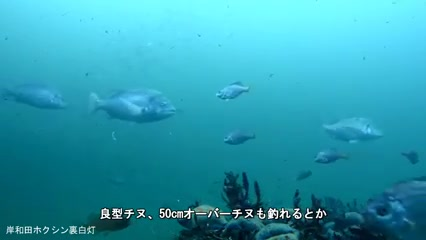smallfish: (86, 83, 177, 126), (3, 76, 68, 120), (314, 112, 383, 146), (304, 142, 350, 172), (212, 75, 251, 108), (220, 126, 264, 149)
